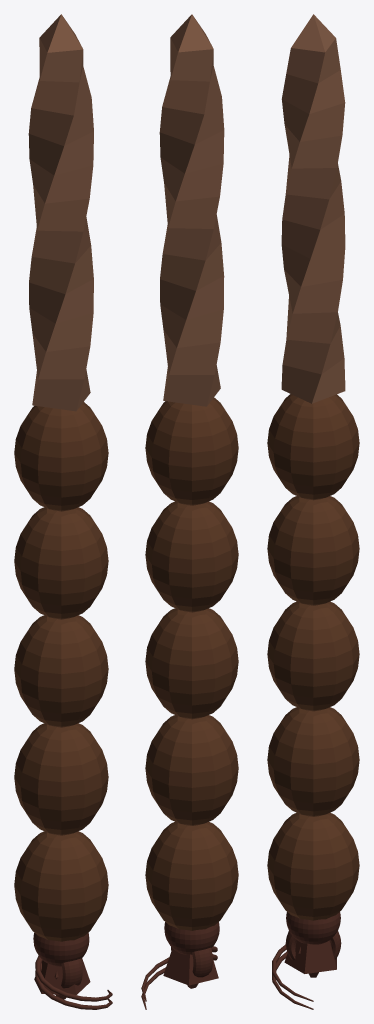
Rendered from Wand 259.glb.
3 renders of one model, left to right at view 1: azimuth 30°, elevation 25°; view 2: azimuth 210°, elevation 25°; view 3: azimuth 270°, elevation 25°, orthographic. The views are drawn at different scales.
Parts seen in each view (by area): view 1: GeneratedWand, Pommel_4, Pommel_9, Pommel_2, Pommel_10; view 2: GeneratedWand, Pommel_4, Pommel_9, Pommel_2; view 3: GeneratedWand, Pommel_9, Pommel_4, Pommel_2, Pommel_10.
Boxes of the visible parts, x1,y1,x2,y2 form: GeneratedWand: [14, 14, 112, 1001]; Pommel_4: [33, 932, 89, 966]; Pommel_9: [34, 958, 90, 994]; Pommel_2: [61, 958, 82, 988]; Pommel_10: [35, 962, 112, 1009]; GeneratedWand: [141, 14, 238, 1001]; Pommel_4: [164, 922, 219, 954]; Pommel_9: [163, 948, 218, 985]; Pommel_2: [171, 947, 212, 977]; GeneratedWand: [267, 14, 359, 1001]; Pommel_9: [284, 940, 336, 973]; Pommel_4: [286, 912, 340, 944]; Pommel_2: [285, 931, 341, 960]; Pommel_10: [272, 951, 313, 1009].
Size of the model in its own units: 0.0481 by 0.5231 by 0.0449.
